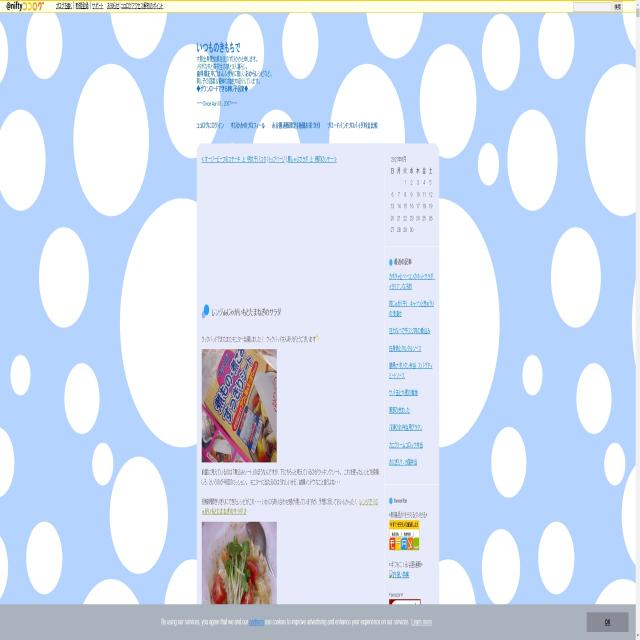side-panel: (386, 150, 439, 605)
tab-bar: (196, 114, 382, 138), (199, 141, 341, 170)
